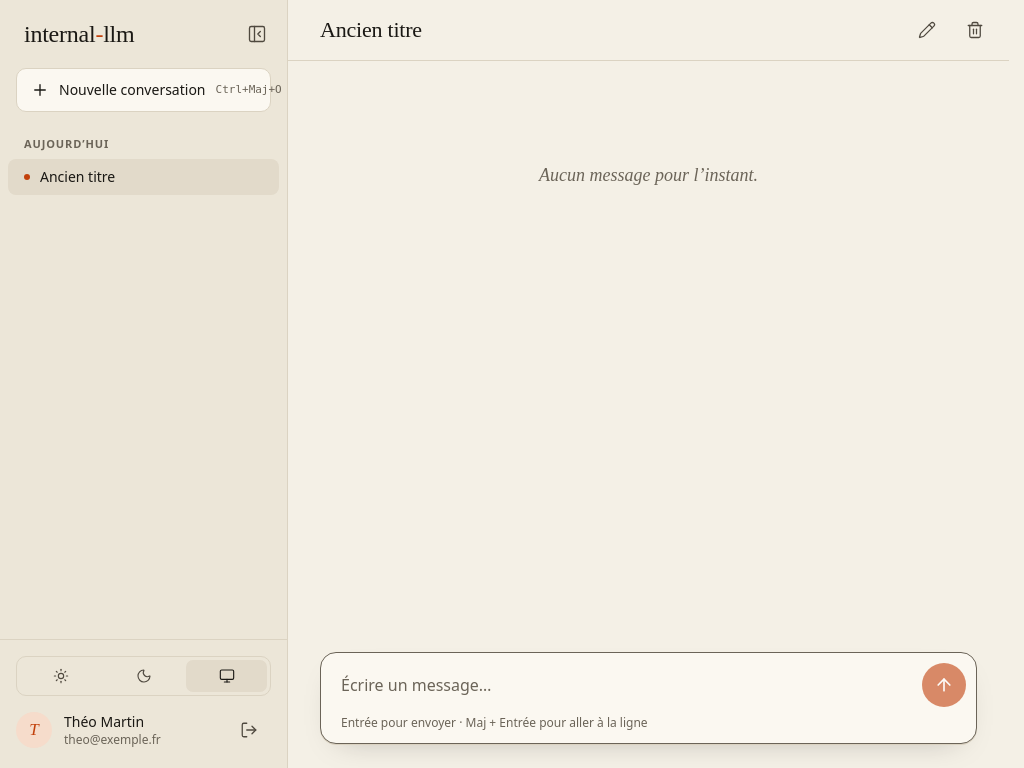
Test: renaming a conversation › saves when the field loses focus
The width and height of the screenshot is (1024, 768).
Expected: the heading "Ancien titre" is shown, [320, 17, 422, 42]
Click the button named "Renommer la conversation" at x=927, y=30, box [905, 8, 949, 52]
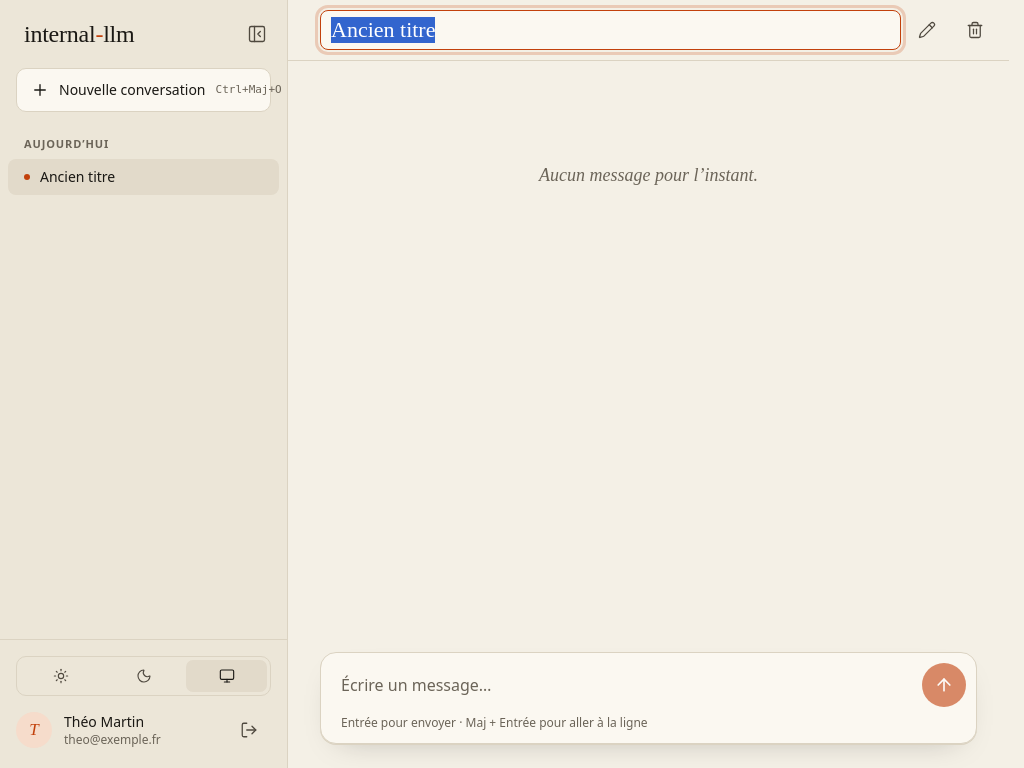
Type " bis" into the field named "Titre de la conversation" at x=610, y=30, box [320, 10, 901, 50]
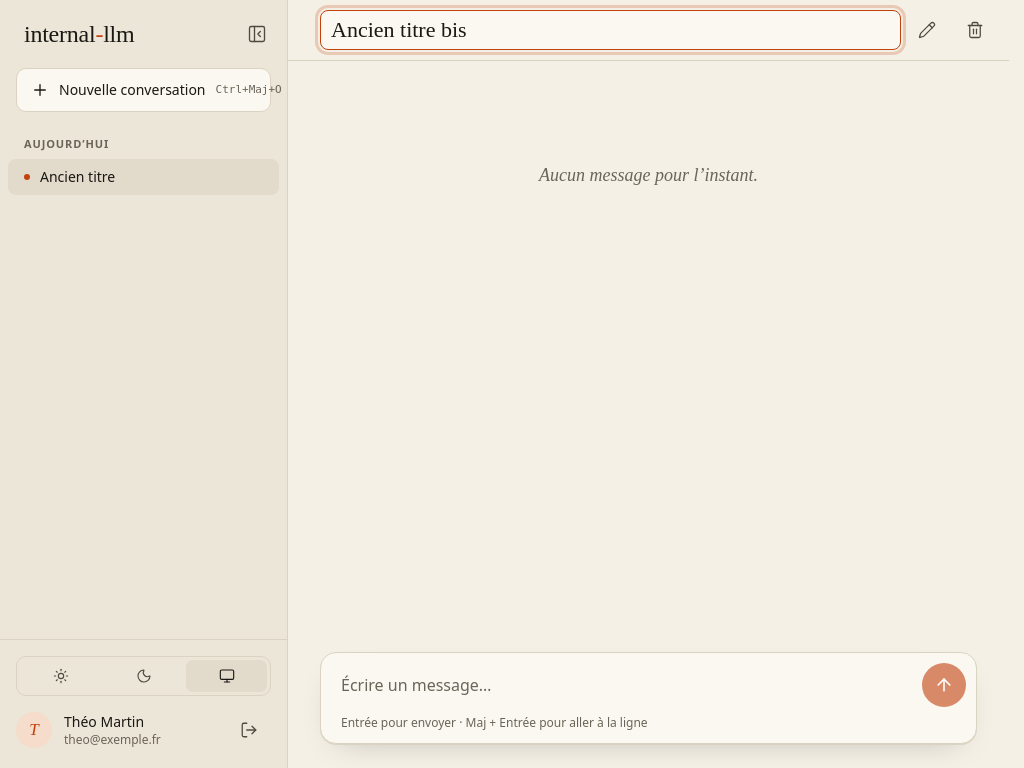
Click the text box labelled "message" at x=628, y=685, box [341, 663, 914, 707]
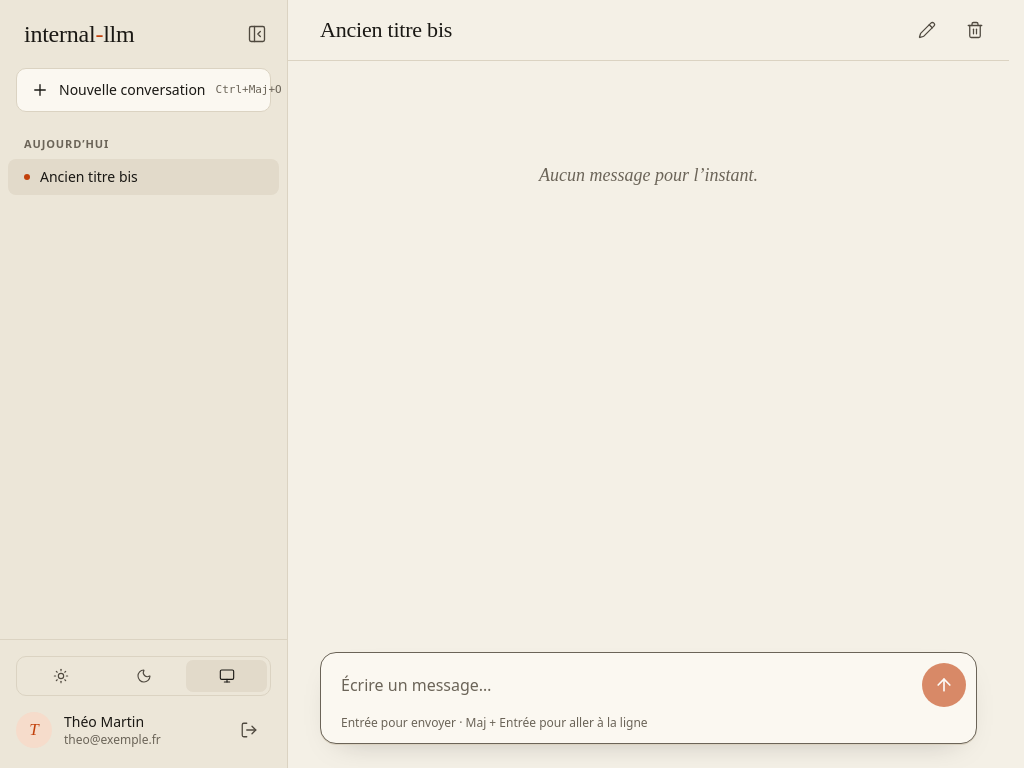
Expected: the heading "Ancien titre bis" is shown, [320, 17, 452, 42]
